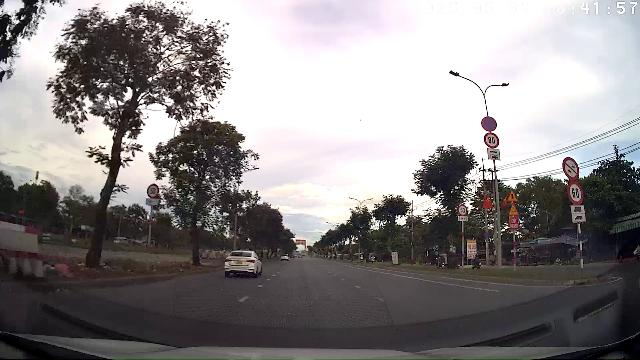127-toc-do-toi-da-50: (147, 183, 160, 198), (457, 204, 468, 216)
127-toc-do-toi-da-60: (567, 181, 584, 205)
127-toc-do-toi-da-80: (484, 132, 500, 148)
130-cam-dung-va-do-xe: (481, 117, 497, 132)
